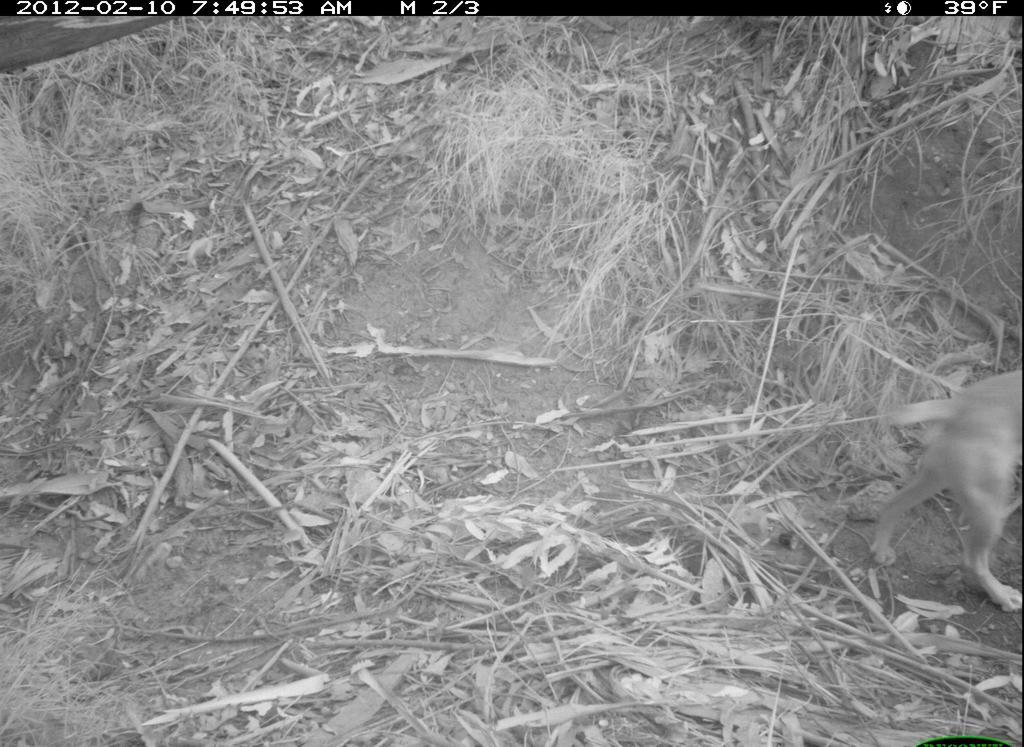dog: (861, 361, 1023, 615)
